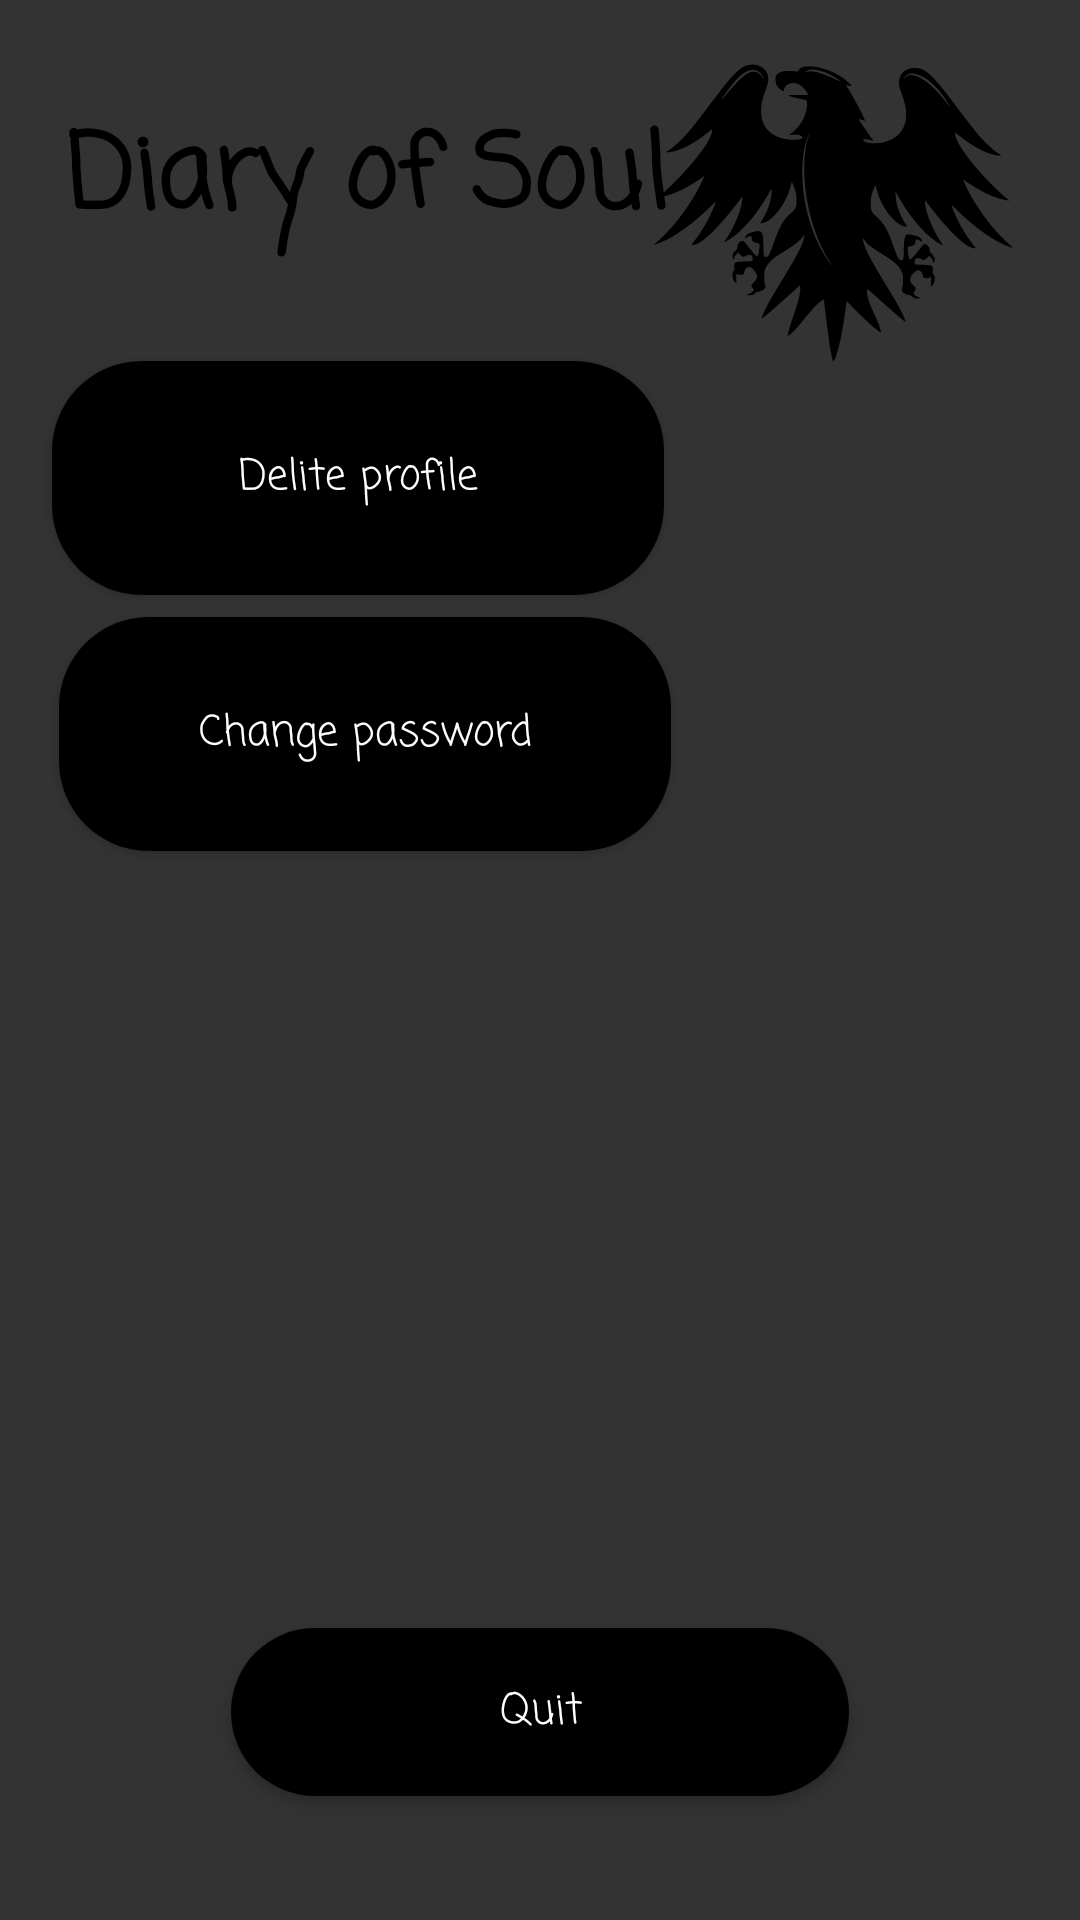

Icons on this 1080x1920 Android screen, each with its box as (x1, y1, x2, y2):
eagle: (653, 65, 1012, 361)
